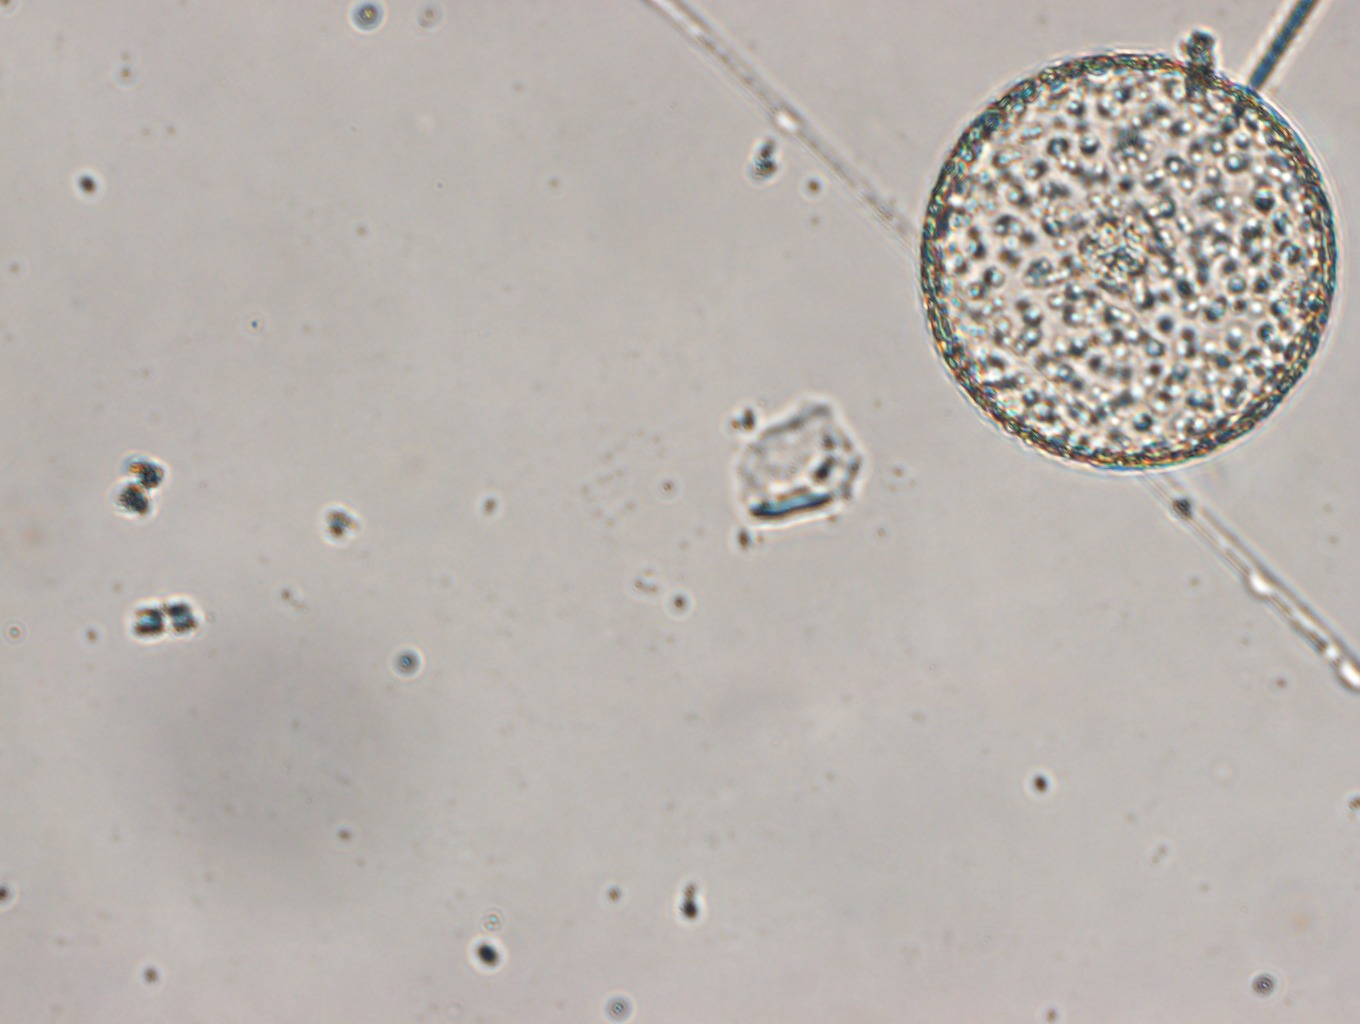coscinodiscus: (916, 46, 1345, 475)
